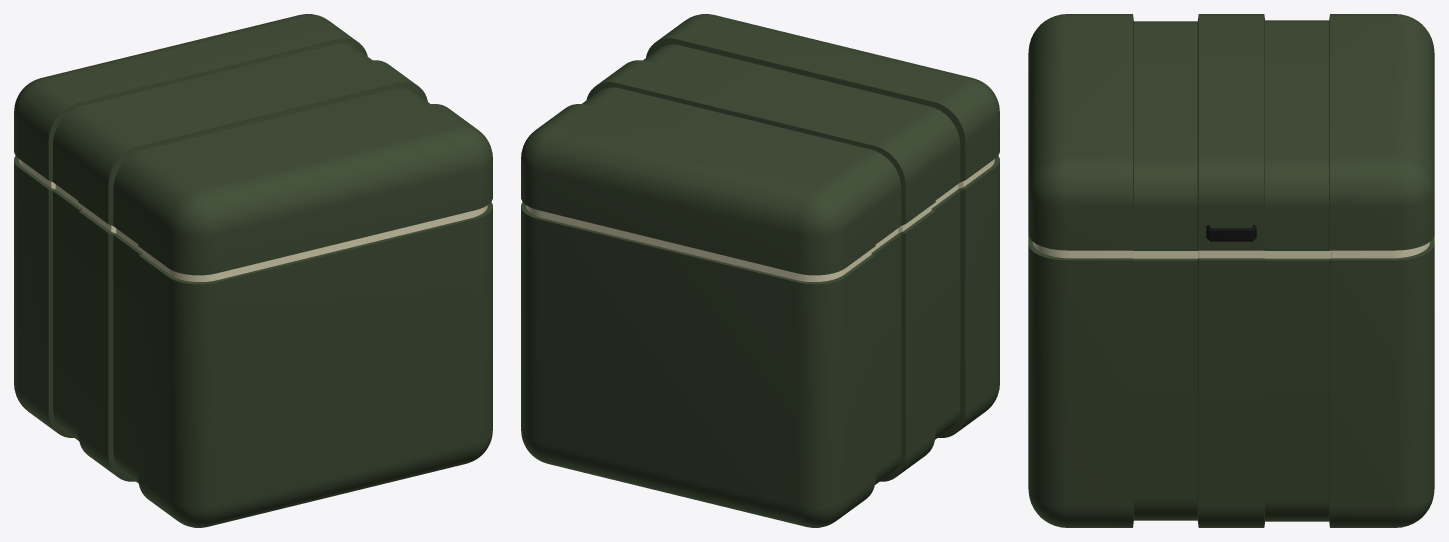
The model's file is militaryBox2.glb.
3 renders of one model, left to right at view 1: azimuth 30°, elevation 25°; view 2: azimuth 150°, elevation 25°; view 3: azimuth 270°, elevation 25°, orthographic. The views are drawn at different scales.
Visible parts, largest first — view 1: Box2; view 2: Box2; view 3: Box2.
Boxes of the visible parts, x1,y1,x2,y2 form: Box2: (14, 14, 492, 527); Box2: (521, 14, 999, 527); Box2: (1028, 14, 1434, 527).
Bounding box in the file's own units: 0.77 × 0.75 × 0.75.
